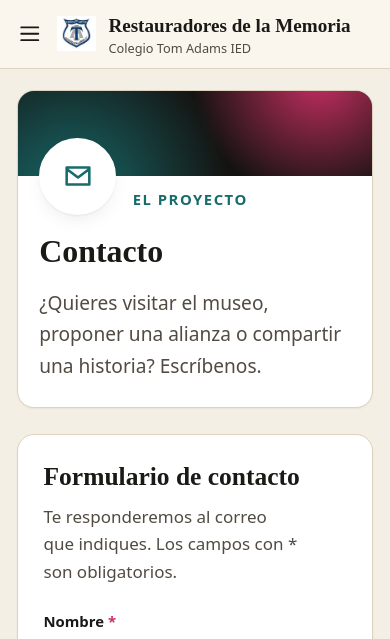
it: encabezado › el menú móvil se abre, lista todas las secciones y se cierra al navegar
Click the button named "Abrir menú" at (30, 34), box [8,13,51,55]
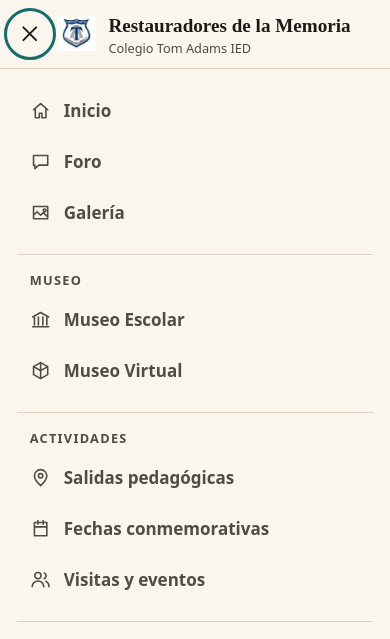
Click the link "Galería" at (77, 212), box [30,201,125,224]
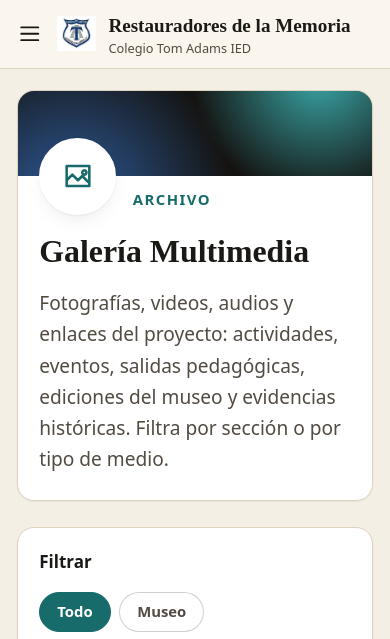
Now the button named "Abrir menú" is collapsed, box [8,13,51,55]
